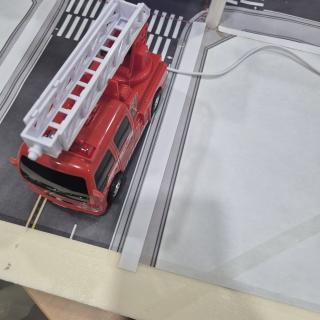Fire_truck: (10, 1, 167, 215)
